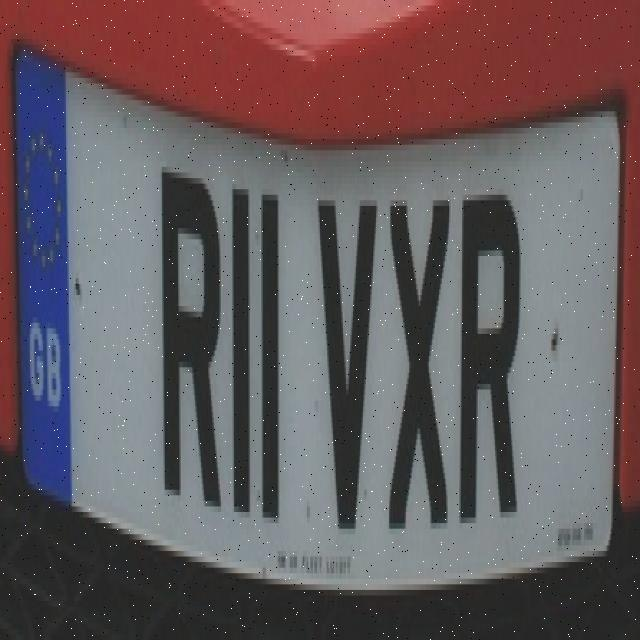licenseplate: (8, 29, 626, 592)
